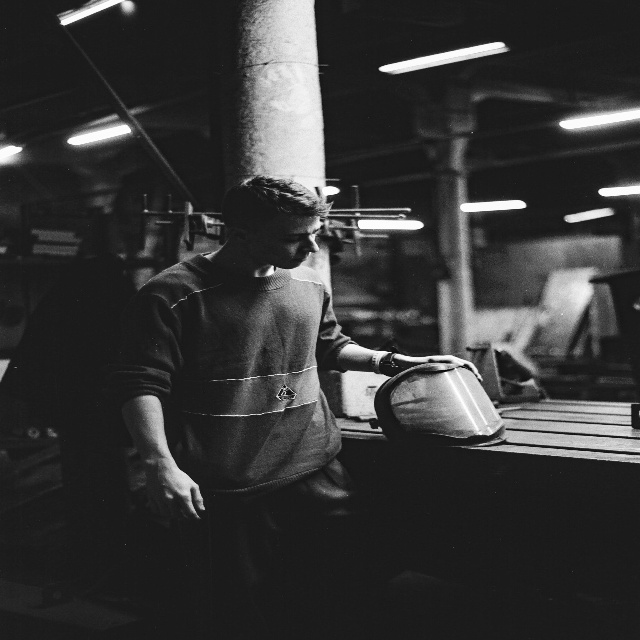Sin_guantes: (145, 461, 205, 520), (422, 354, 482, 381)
